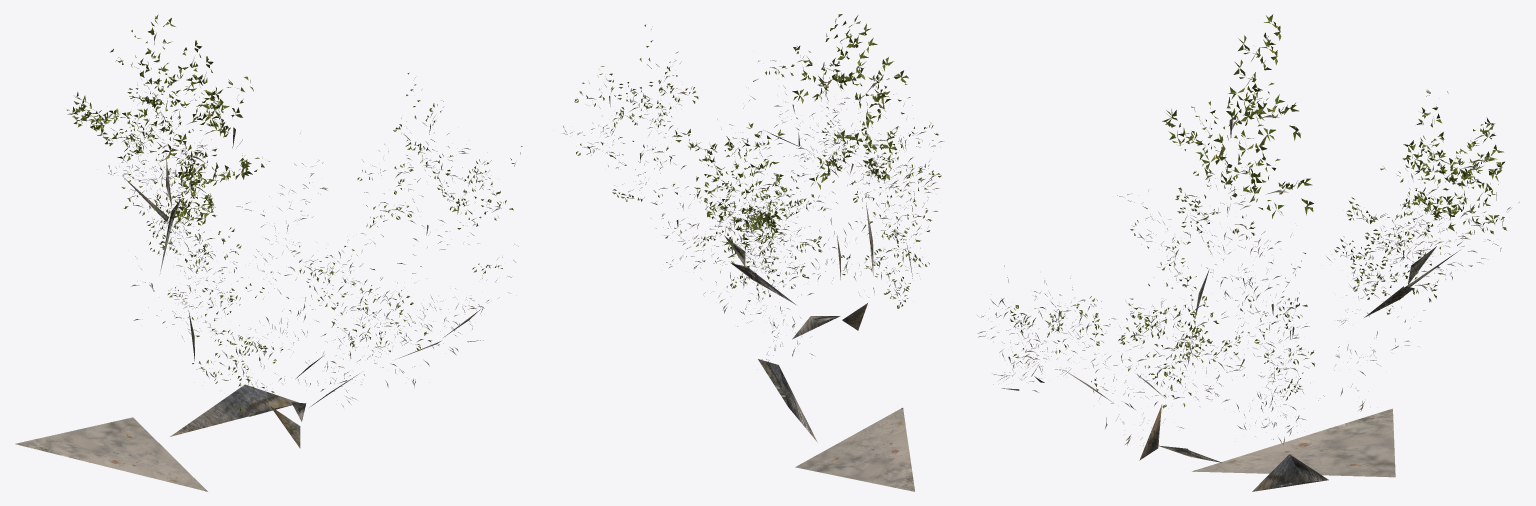
Rendered from island_tree_03_lod2.gltf.
3 views of the same model, side by side, from view 1: azimuth 30°, elevation 25°; view 2: azimuth 150°, elevation 25°; view 3: azimuth 270°, elevation 25° (orthographic). The views are drawn at different scales.
Parts seen in each view (by area): view 1: island_tree_03_lod2; view 2: island_tree_03_lod2; view 3: island_tree_03_lod2.
Boxes of the visible parts, bbox=[...] form: island_tree_03_lod2: bbox=[15, 14, 522, 491]; island_tree_03_lod2: bbox=[562, 14, 944, 491]; island_tree_03_lod2: bbox=[977, 14, 1519, 491].
Size of the model in its own units: 2.71 by 2.63 by 2.82.
3 materials, 3 textured.
